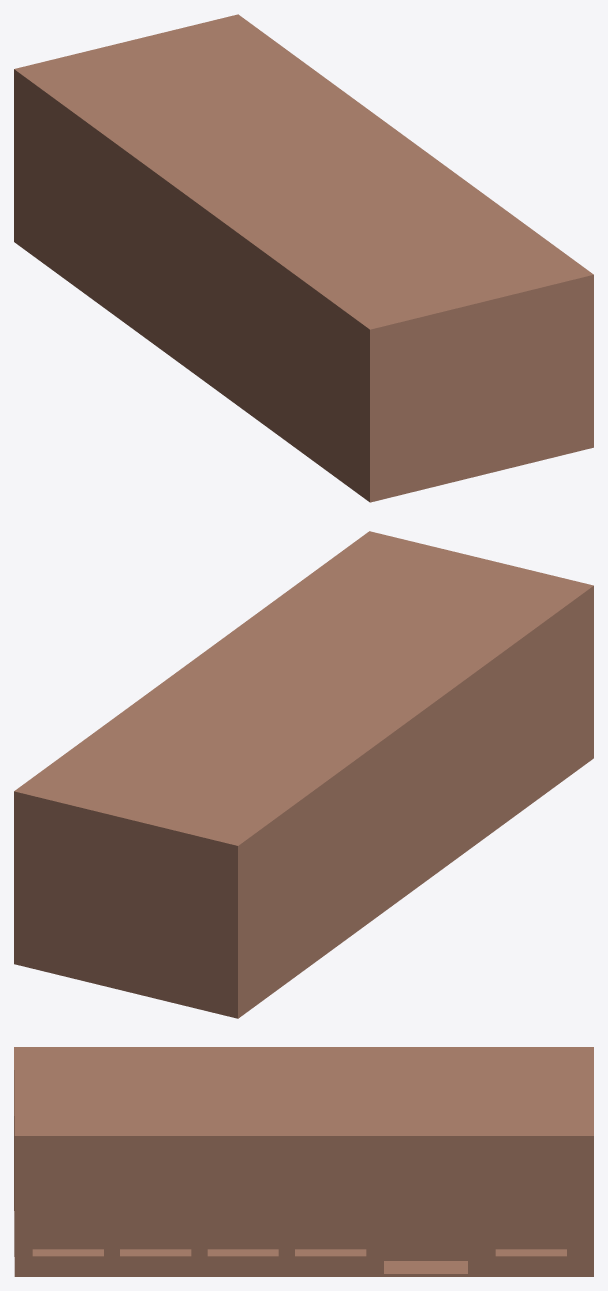
File: School_Section_A_FBX.fbx
3 renders of one model, top to bottom at view 1: azimuth 30°, elevation 25°; view 2: azimuth 150°, elevation 25°; view 3: azimuth 270°, elevation 25°, orthographic. The views are drawn at different scales.
Visible parts, largest first — view 1: Cube.001; view 2: Cube.001; view 3: Cube.001.
Part boxes in pixels (bbox=[...]): Cube.001: bbox=[14, 14, 593, 502]; Cube.001: bbox=[14, 531, 593, 1018]; Cube.001: bbox=[14, 1047, 593, 1276].
Bounding box in the file's own units: 6515 × 4800 × 17916.
